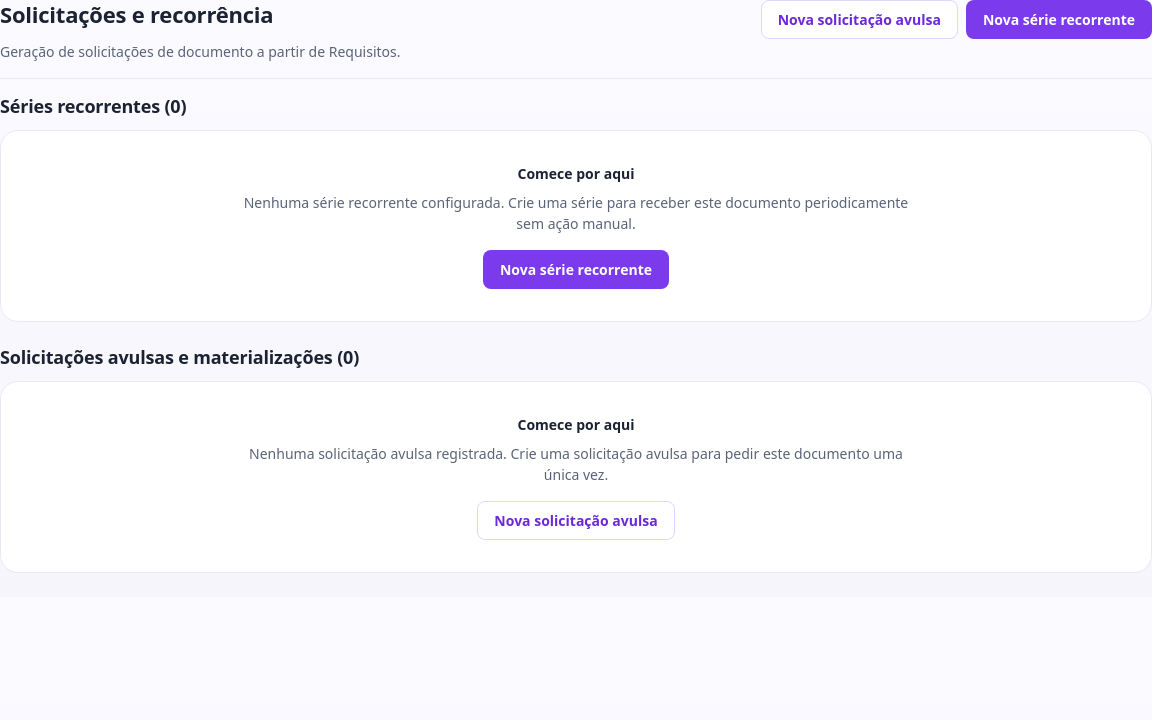
Test: SubjectRequests (A14) › 'Nova solicitação avulsa' rejects EMAIL delivery without a recipientEmail before ever submitting
Click the button "Nova solicitação avulsa" in the row of "Solicitações e recorrência": (859, 20) [761, 0, 958, 39]
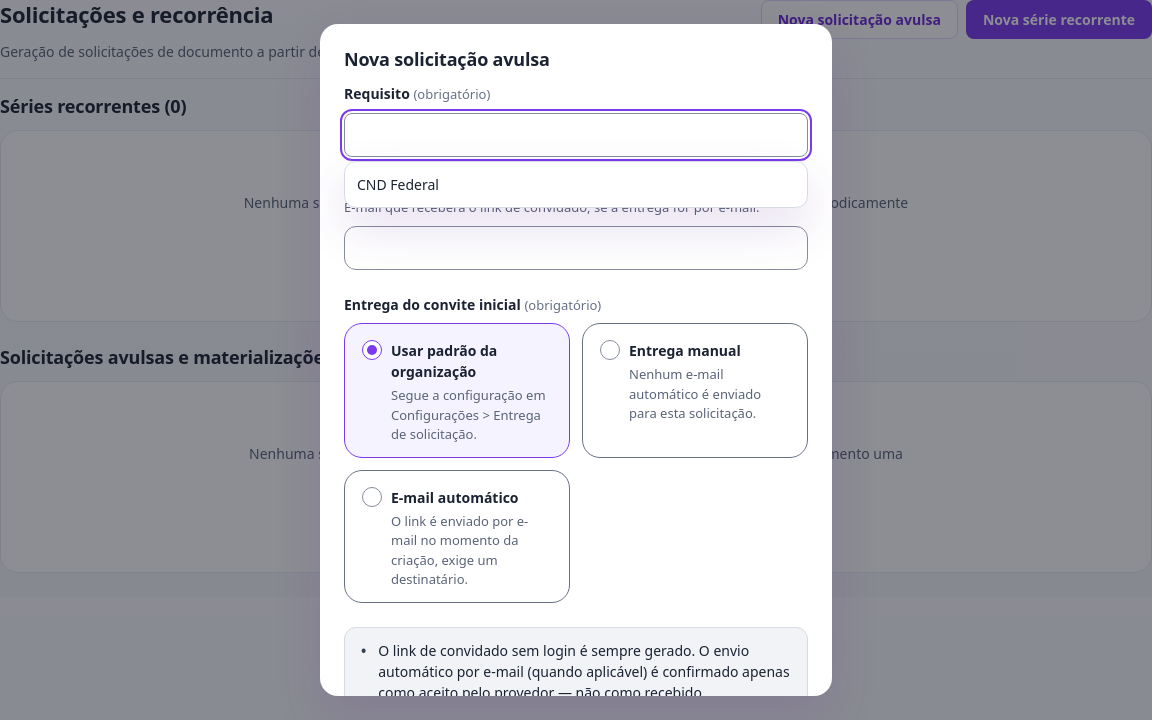
In the dropdown labelled "Requisito (obrigatório)": (576, 135) [344, 113, 808, 157], type "CND"
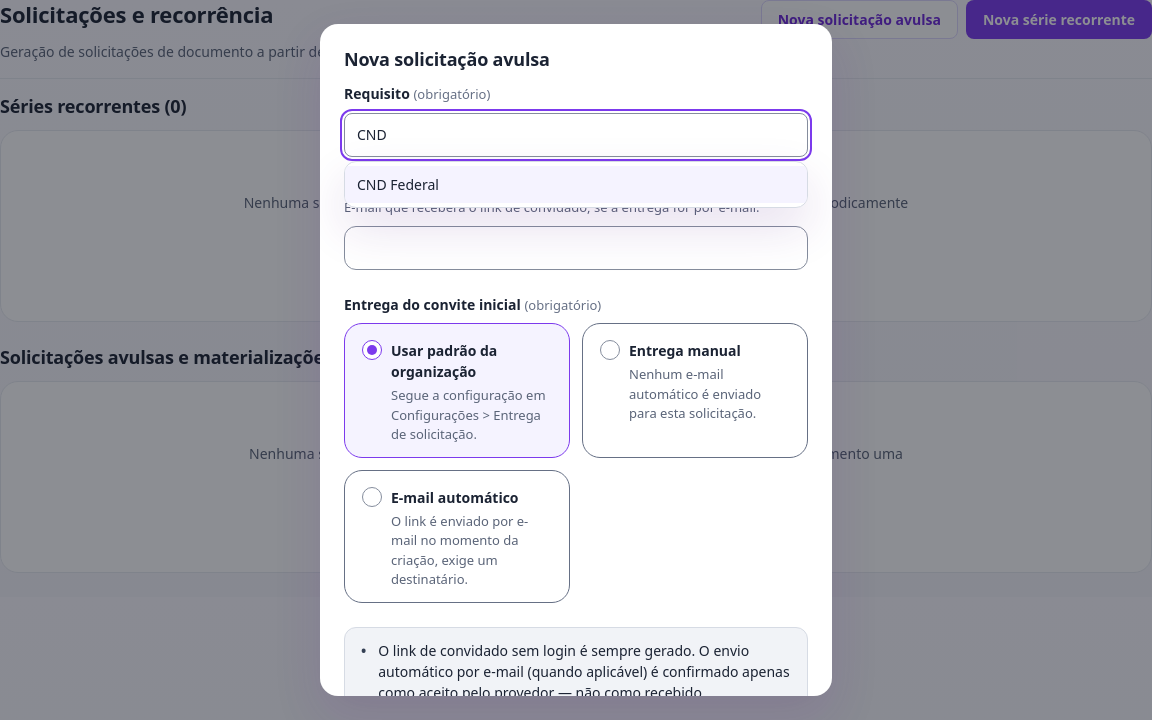
Now the option "CND Federal" is shown
Press the mouse on the option "CND Federal": (398, 184) [345, 166, 807, 203]
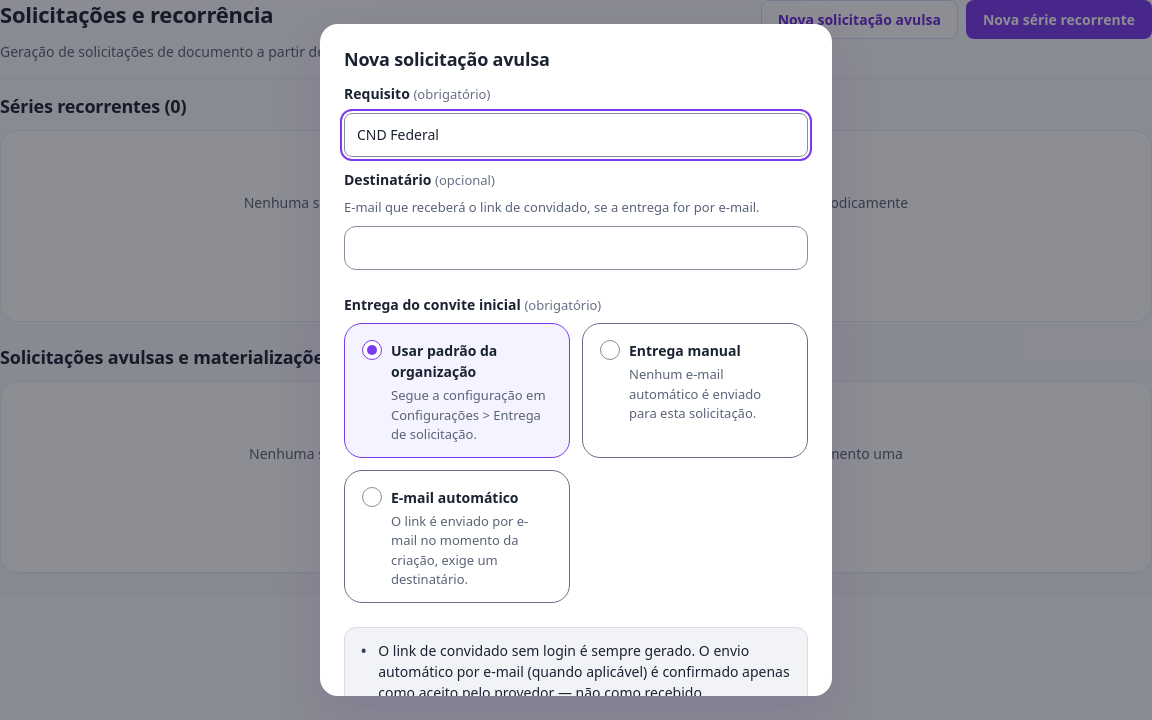
Click the radio button labelled "E-mail automático": (455, 497) [391, 488, 518, 507]
(page scrolled)
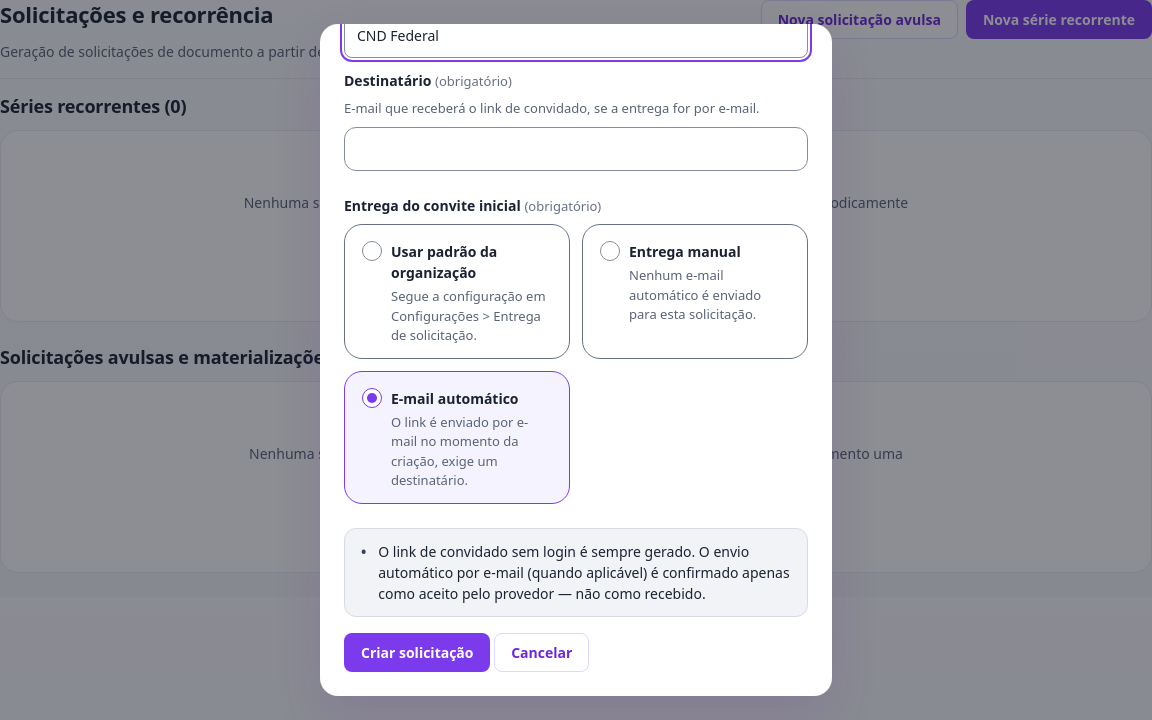
Click the button "Criar solicitação": (417, 652) [344, 633, 490, 672]
(page scrolled)
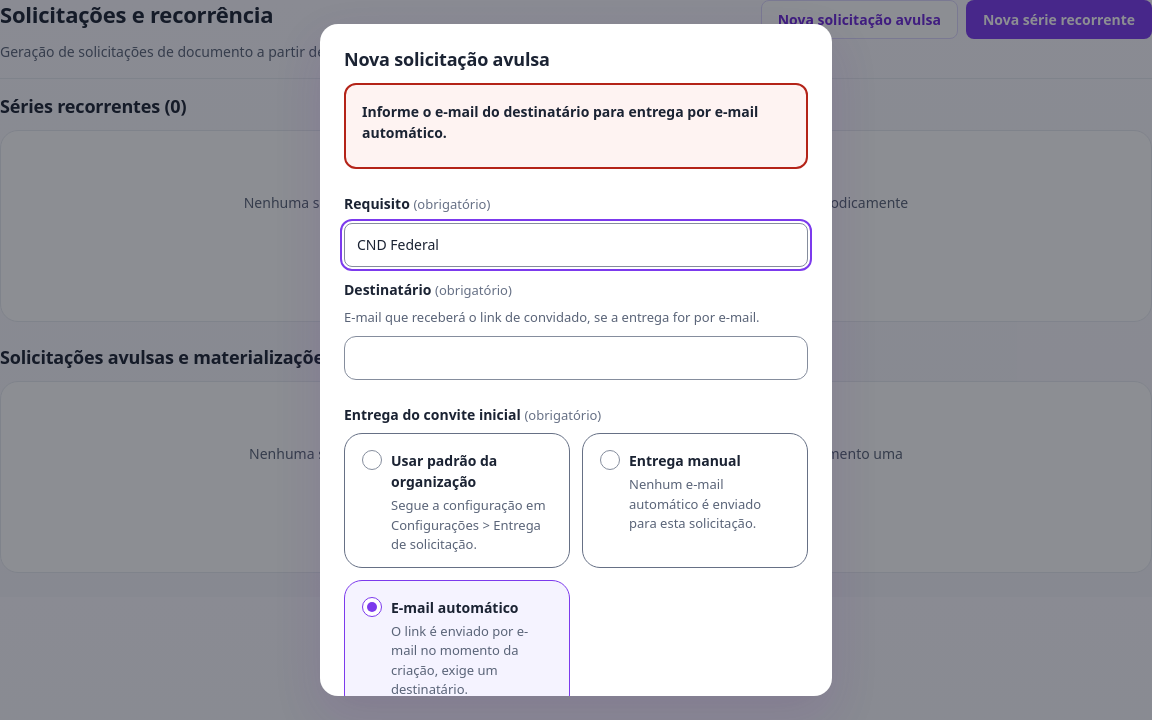
Now the text "Informe o e-mail do destinatário para entrega por e-mail automático" is shown, box [362, 102, 758, 142]
